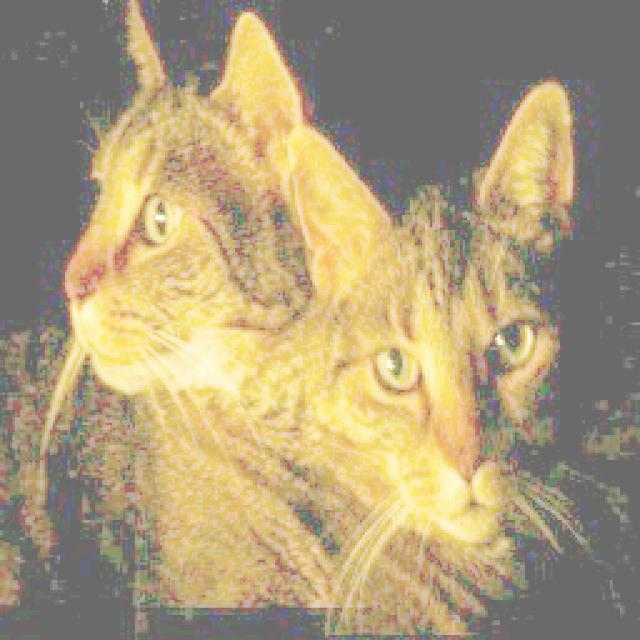cat: (276, 69, 638, 588), (38, 5, 322, 549)
